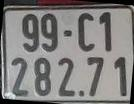-: (63, 31, 72, 36)
.: (80, 91, 84, 96)
1: (115, 56, 127, 96), (101, 12, 111, 52)
2: (59, 58, 75, 96), (12, 58, 28, 96)
7: (87, 58, 103, 95)
8: (34, 58, 52, 96)
9: (41, 14, 58, 52), (22, 14, 39, 51)
C: (78, 13, 95, 51)
